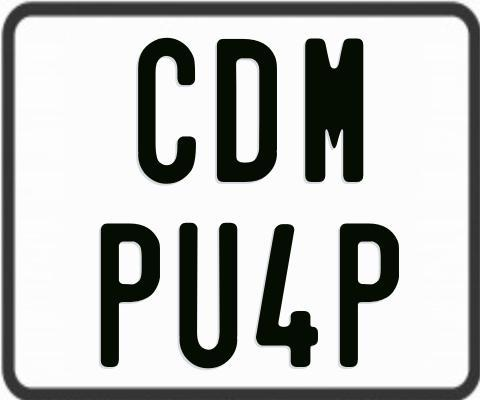4: (254, 222, 322, 369)
C: (135, 38, 195, 188)
D: (215, 37, 278, 185)
M: (305, 37, 367, 183)
P: (337, 222, 397, 371), (99, 221, 159, 365)
U: (177, 221, 236, 370)
